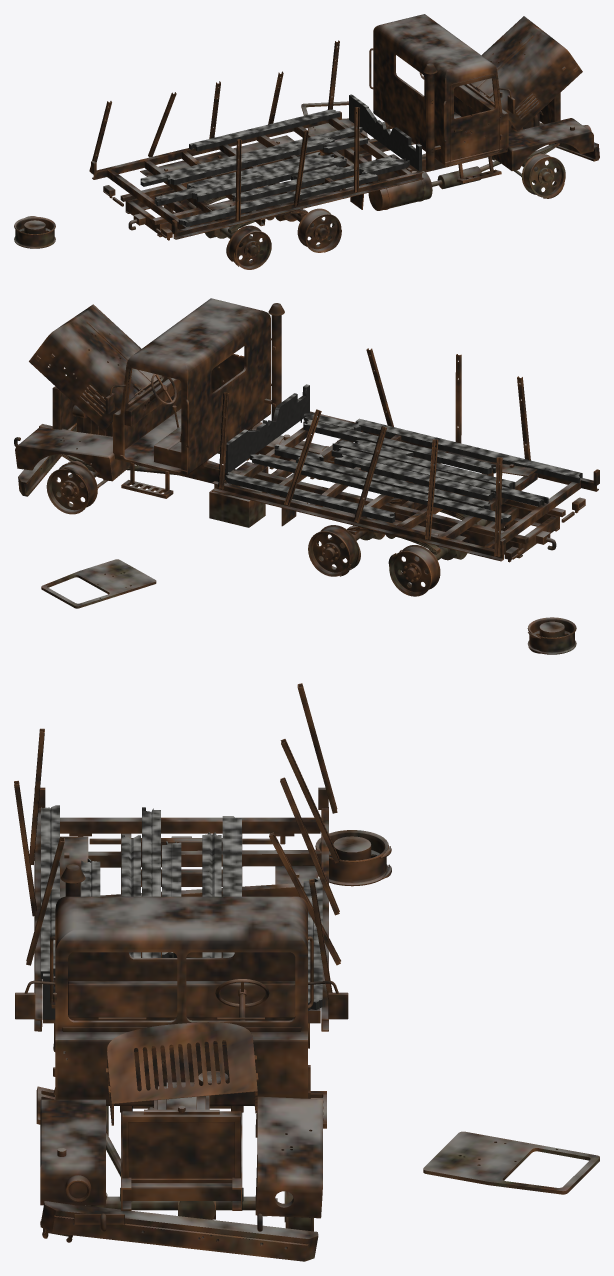
File: M3S_Wreck.glb
The picture shows the model from 3 angles, top to bottom: view 1: azimuth 30°, elevation 25°; view 2: azimuth 150°, elevation 25°; view 3: azimuth 270°, elevation 25°; orthographic projection. The views are drawn at different scales.
Visible parts, largest first — view 1: M3S_Wreck; view 2: M3S_Wreck; view 3: M3S_Wreck.
Boxes of the visible parts, <box> form: M3S_Wreck: <box>14,14,599,269</box>; M3S_Wreck: <box>14,298,599,654</box>; M3S_Wreck: <box>14,683,599,1261</box>.
Bounding box in the file's own units: 8.12 × 2.41 × 4.64.
1 material, 1 textured.
